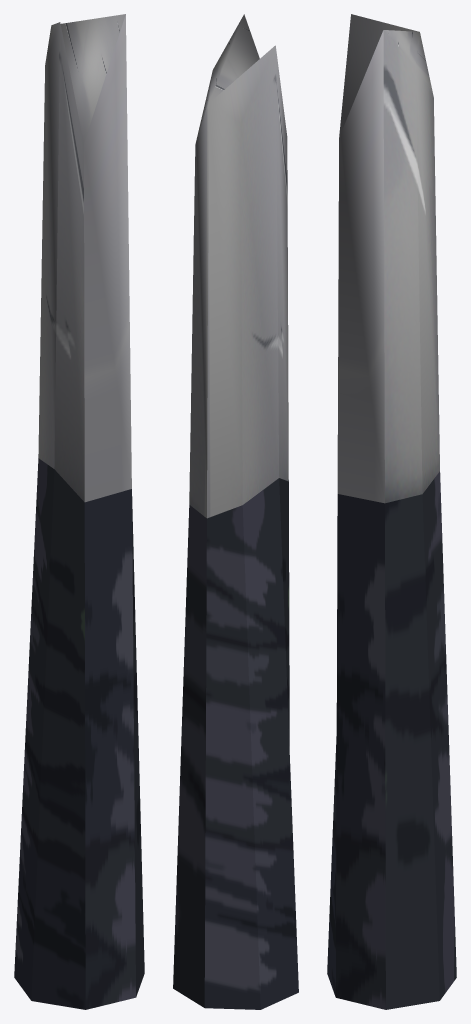
File: sword_bootm.fbx
3 renders of one model, left to right at view 1: azimuth 30°, elevation 25°; view 2: azimuth 150°, elevation 25°; view 3: azimuth 330°, elevation 25°, orthographic. The views are drawn at different scales.
Visible parts, largest first — view 1: Cylinder.001; view 2: Cylinder.001; view 3: Cylinder.001.
Boxes of the visible parts, x1,y1,x2,y2 form: Cylinder.001: [14, 14, 144, 1009]; Cylinder.001: [173, 14, 298, 1009]; Cylinder.001: [327, 14, 456, 1009].
Bounding box in the file's own units: 9.75 × 80.7 × 9.5.
1 material, 1 textured.
